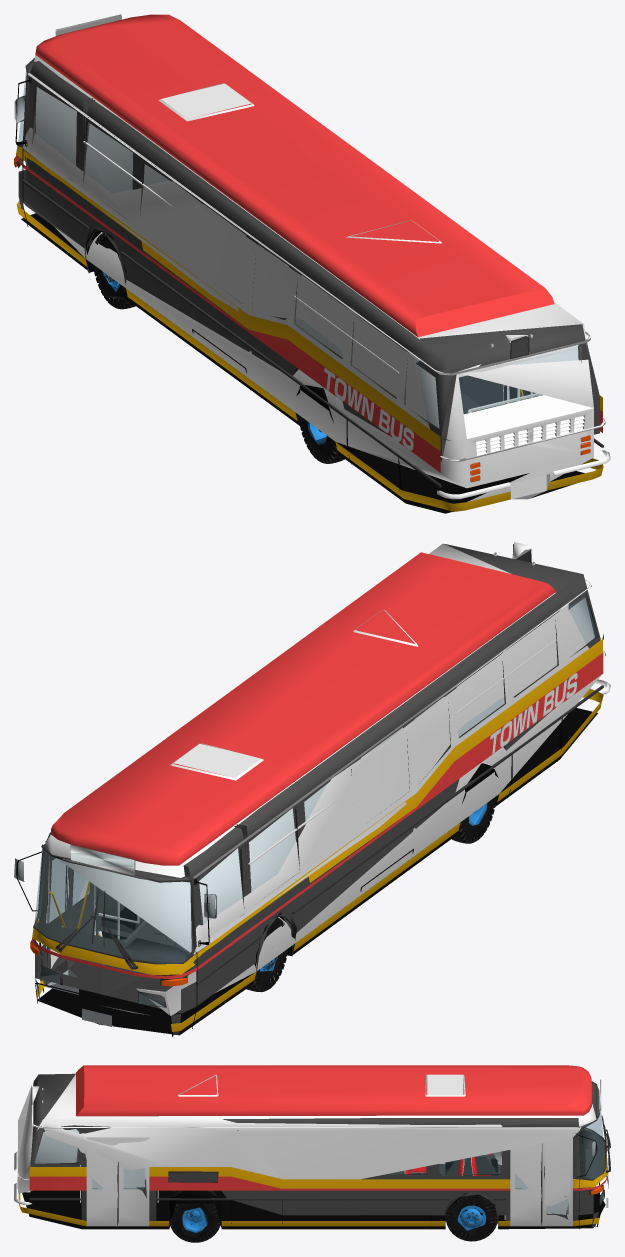
File: townbus.glb
3 renders of one model, top to bottom at view 1: azimuth 30°, elevation 25°; view 2: azimuth 150°, elevation 25°; view 3: azimuth 270°, elevation 25°, orthographic. The views are drawn at different scales.
Parts seen in each view (by area): view 1: part31, part22, part24, part30, part14, part4, part29, part19, part20, part0, wheel_RF, wheel_RB (+1 smaller); view 2: part31, part22, part24, part14, part30, part4, part19, part20, part29, part0, part5, wheel_RF (+3 smaller); view 3: part22, part31, part24, part4, part30, part14, part20, part19, wheel_LB, wheel_LF, part29, part25 (+2 smaller).
Part boxes in pixels (box(x1,y1,x2,y2)): part31: box(16, 14, 602, 472); part22: box(21, 14, 593, 501); part24: box(18, 60, 599, 461); part30: box(16, 146, 603, 511); part14: box(18, 72, 578, 427); part4: box(21, 77, 584, 513); part29: box(28, 73, 610, 499); part19: box(16, 84, 503, 430); part20: box(17, 57, 603, 487); part0: box(324, 367, 413, 450); wheel_RF: box(298, 415, 344, 463); wheel_RB: box(87, 233, 135, 309); part31: box(32, 552, 603, 978); part22: box(45, 542, 602, 1015); part24: box(35, 544, 600, 1034); part14: box(34, 597, 597, 1006); part30: box(32, 639, 603, 1031); part4: box(37, 708, 597, 1035); part19: box(15, 593, 598, 1013); part20: box(33, 544, 603, 984); part29: box(45, 580, 610, 878); part0: box(490, 673, 577, 753); part5: box(16, 718, 562, 1036); wheel_RF: box(452, 796, 496, 843); part22: box(18, 1074, 601, 1226); part31: box(29, 1065, 608, 1190); part24: box(30, 1073, 599, 1227); part4: box(22, 1131, 605, 1229); part30: box(18, 1128, 608, 1226); part14: box(34, 1096, 605, 1214); part20: box(29, 1081, 610, 1226); part19: box(34, 1115, 610, 1223); wheel_LB: box(446, 1194, 497, 1241); wheel_LF: box(169, 1191, 220, 1242); part29: box(14, 1080, 578, 1205); part25: box(149, 1172, 578, 1198).
Bounding box in the file's own units: 2.56 × 2.6 × 10.5.
19 materials, 3 textured.
